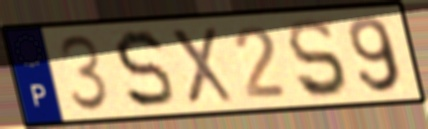2: (232, 23, 287, 100)
3: (58, 32, 111, 113)
9: (346, 14, 404, 95)
S: (111, 27, 177, 111), (285, 16, 350, 101)
X: (166, 25, 237, 107)
